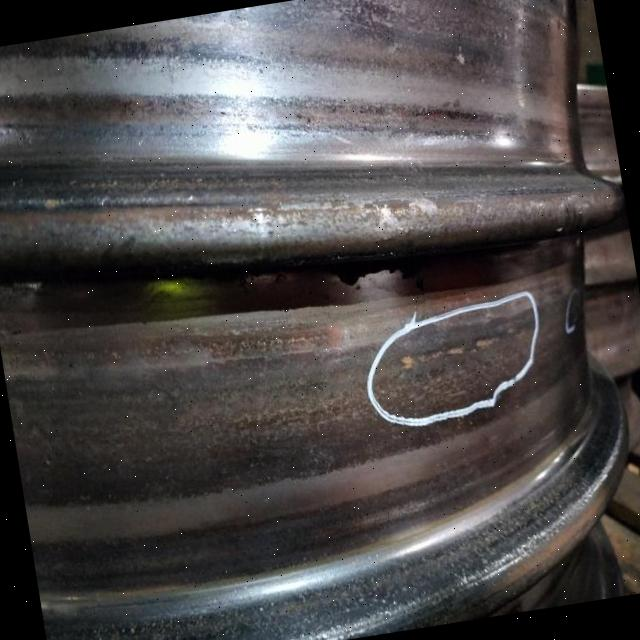Brake_Thermal_Cracks: (400, 339, 499, 373)
